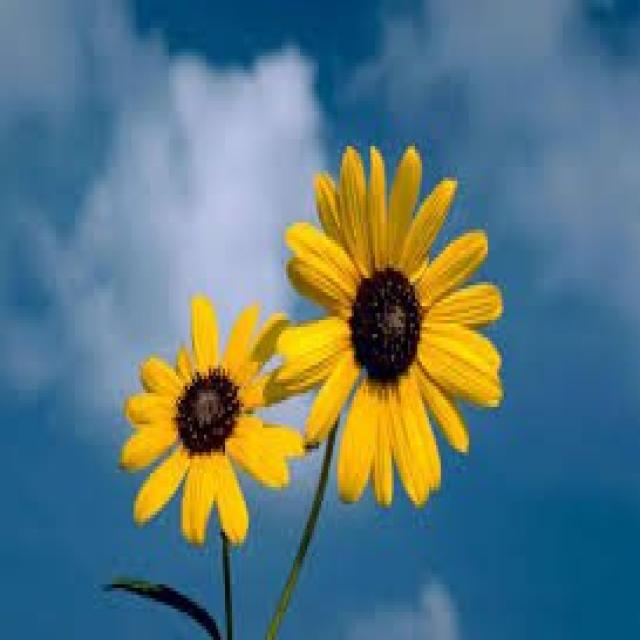sunflower: (272, 144, 511, 516), (116, 291, 306, 558)
